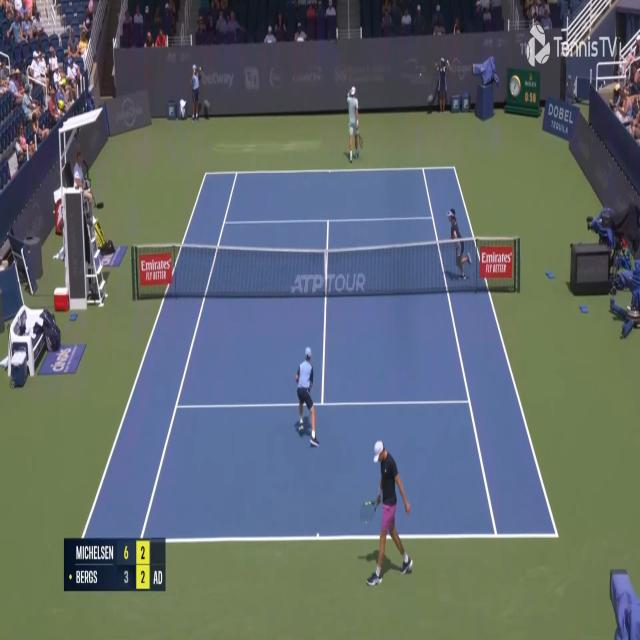tennis-player: (361, 438, 416, 590), (346, 84, 363, 164)
